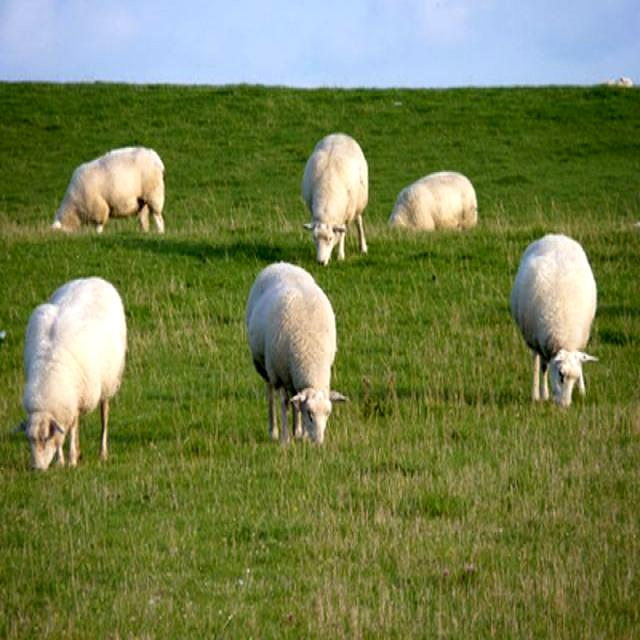sheep: (11, 277, 124, 474), (247, 263, 355, 445), (508, 233, 604, 405)
